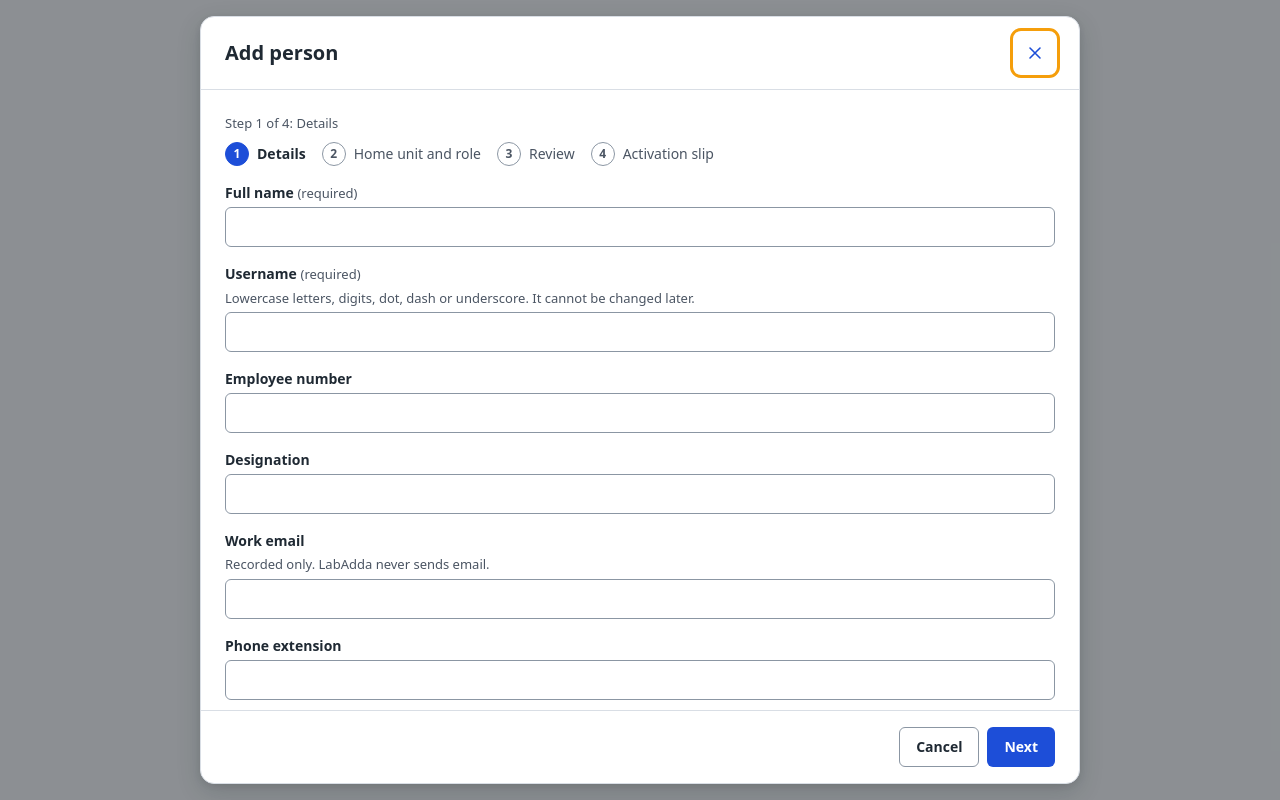
Test: keeps the draft and shows a fresh plan after a conflict
Type "Gita Sen" into the field labelled "Full name (required)" at {"x": 640, "y": 227}, box [225,207,1055,247]
Type "gita" into the field labelled "Username (required)" at {"x": 640, "y": 332}, box [225,312,1055,352]
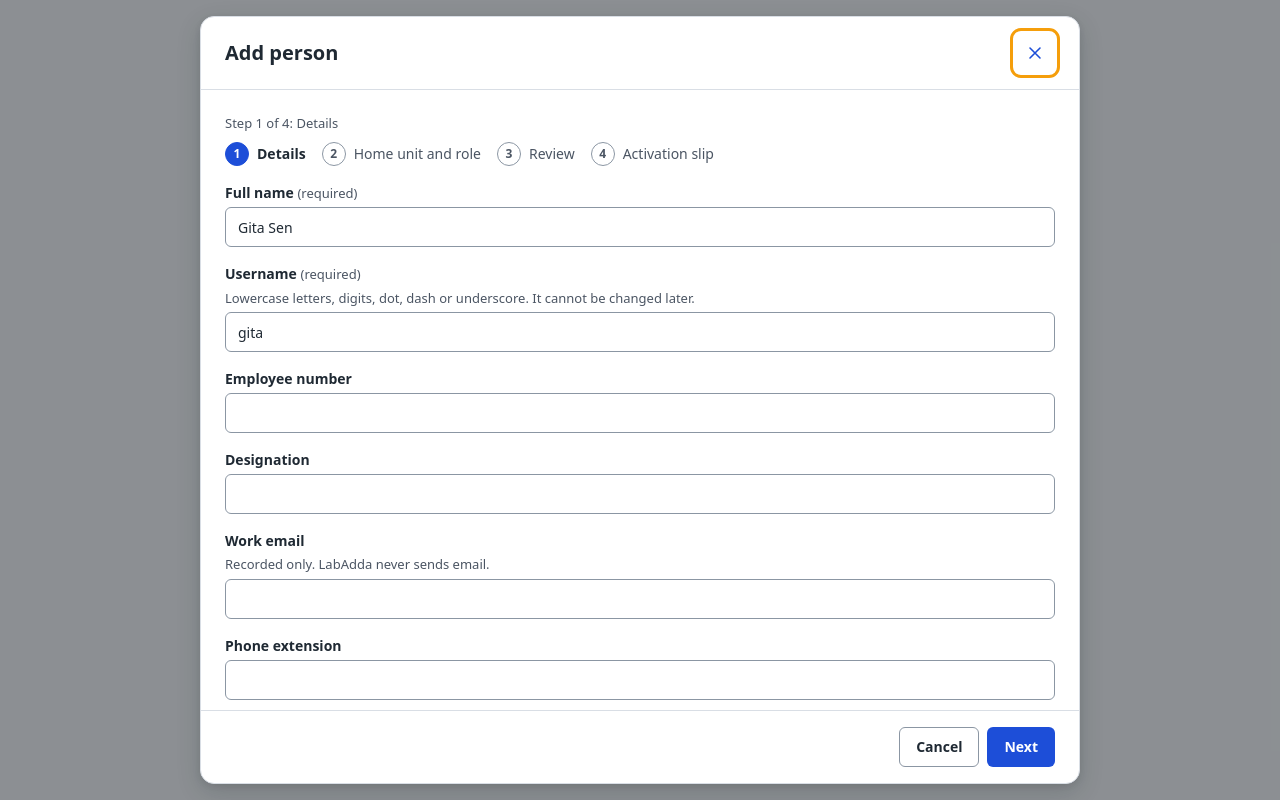
Click the button "Next" at {"x": 1021, "y": 747}, box [988,727,1055,767]
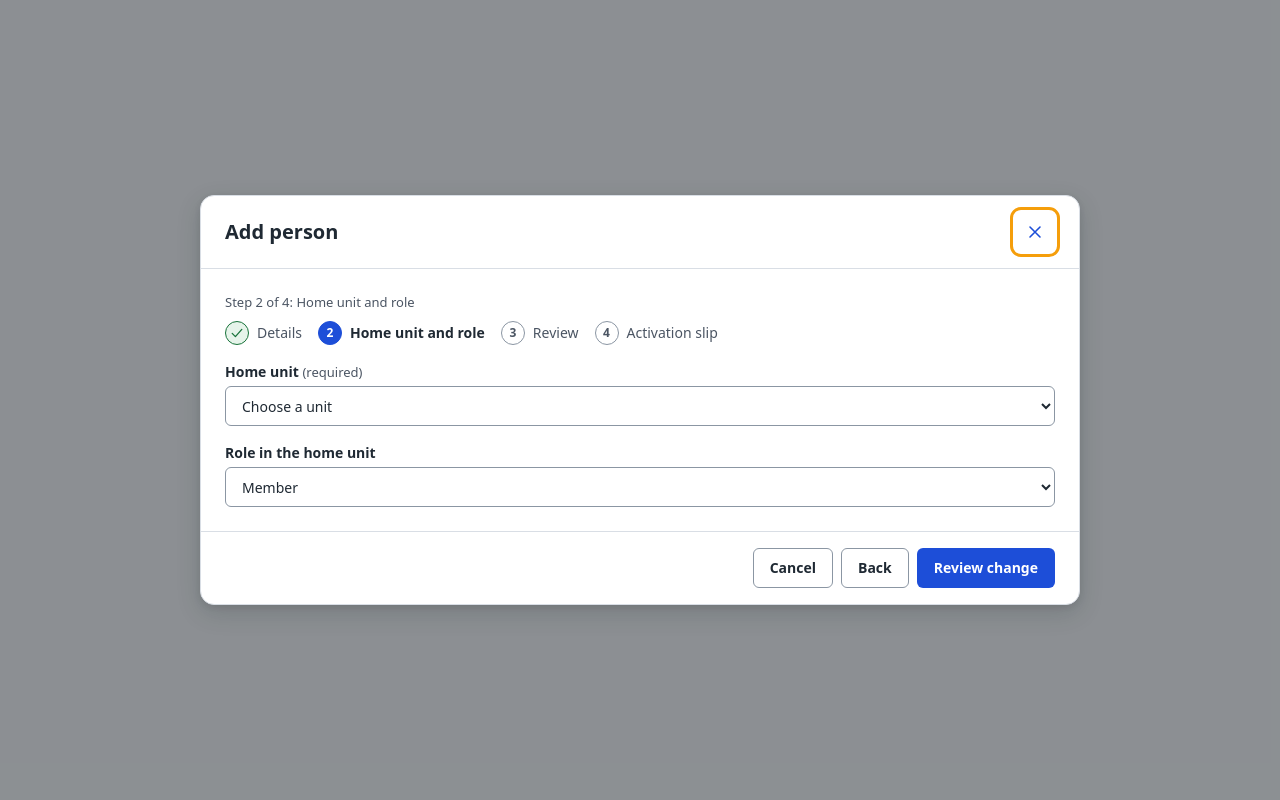
Select "Corrosion Section" in the dropdown labelled "Home unit (required)" at {"x": 640, "y": 406}, box [225,386,1055,426]
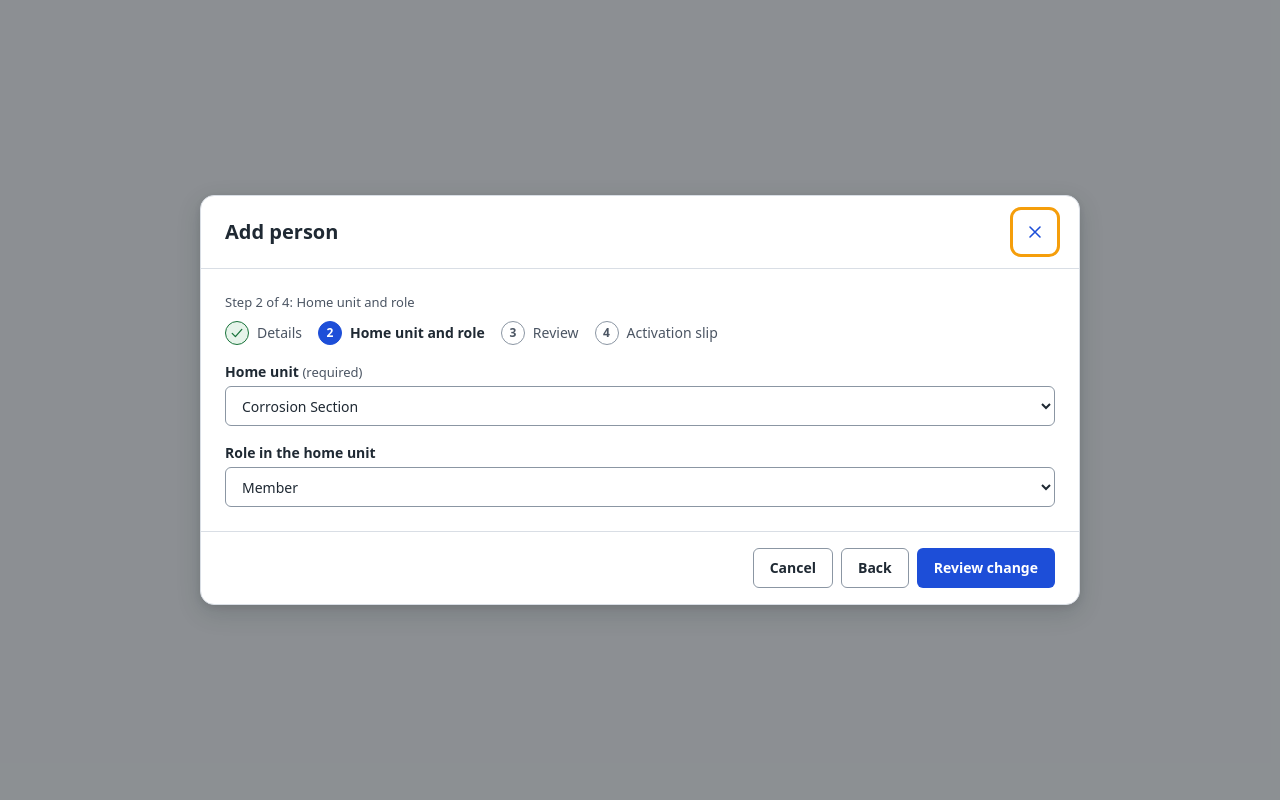
Click the button "Review change" at {"x": 986, "y": 568}, box [917,548,1055,588]
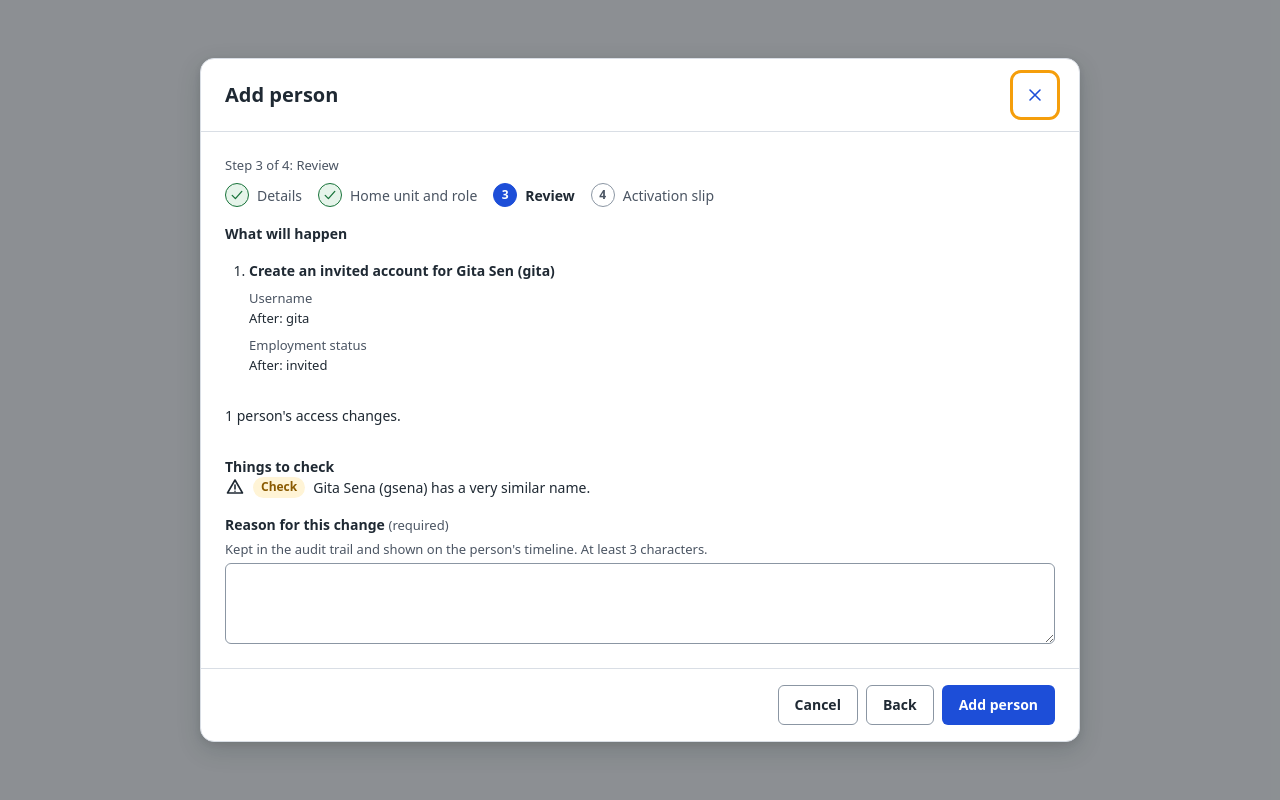
Expected: the text "Gita Sena (gsena) has a very similar name." is shown, [313,477,590,498]
Type "New joiner" into the text box labelled "Reason for this change (required)" at {"x": 640, "y": 604}, box [225,563,1055,644]
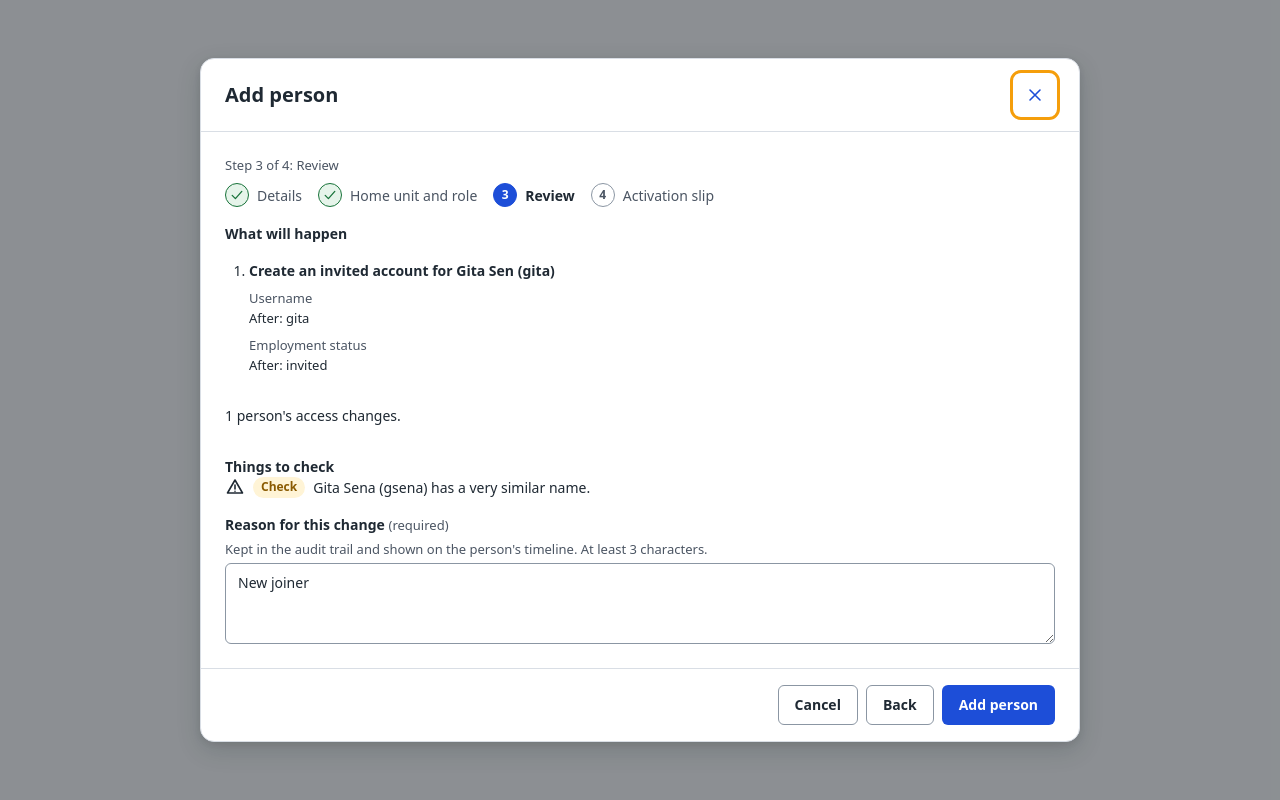
Click the button "Add person" at {"x": 998, "y": 705}, box [942,685,1055,725]
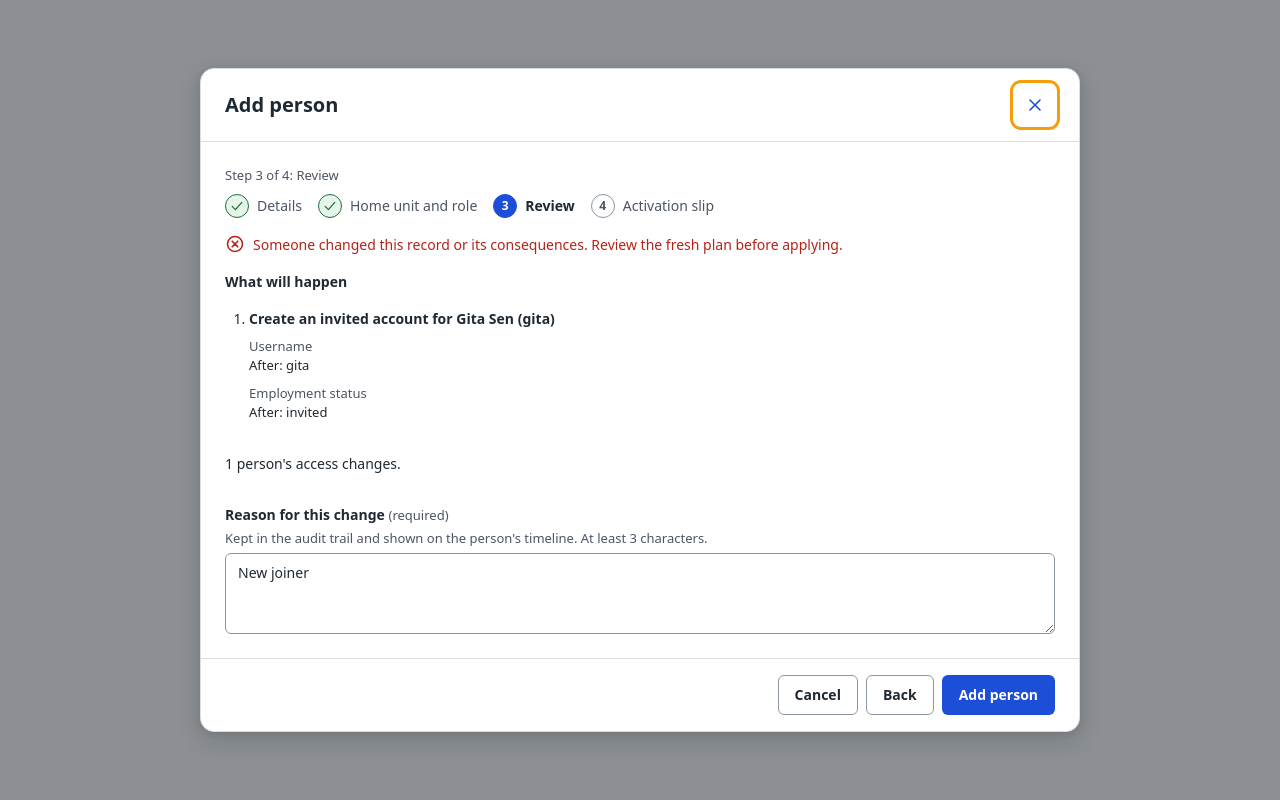
Expected: the text "Review the fresh plan before applying" is shown, [253,235,843,254]
